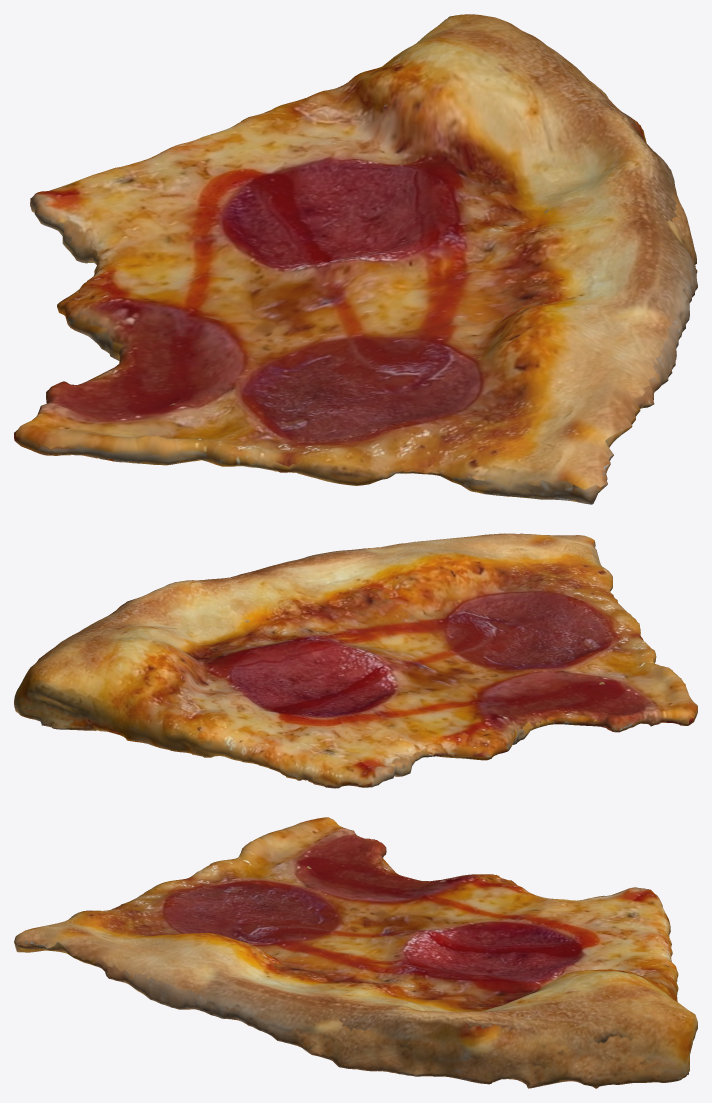
File: pizza.glb
3 views of the same model, one above another, from view 1: azimuth 30°, elevation 25°; view 2: azimuth 150°, elevation 25°; view 3: azimuth 270°, elevation 25° (orthographic). The views are drawn at different scales.
Parts seen in each view (by area): view 1: BittenMesh; view 2: BittenMesh; view 3: BittenMesh.
Boxes of the visible parts, x1,y1,x2,y2 form: BittenMesh: (14, 14, 697, 504); BittenMesh: (14, 533, 697, 788); BittenMesh: (14, 817, 697, 1088).
Bounding box in the file's own units: 0.1674 × 0.0238 × 0.1792.
1 material, 1 textured.
